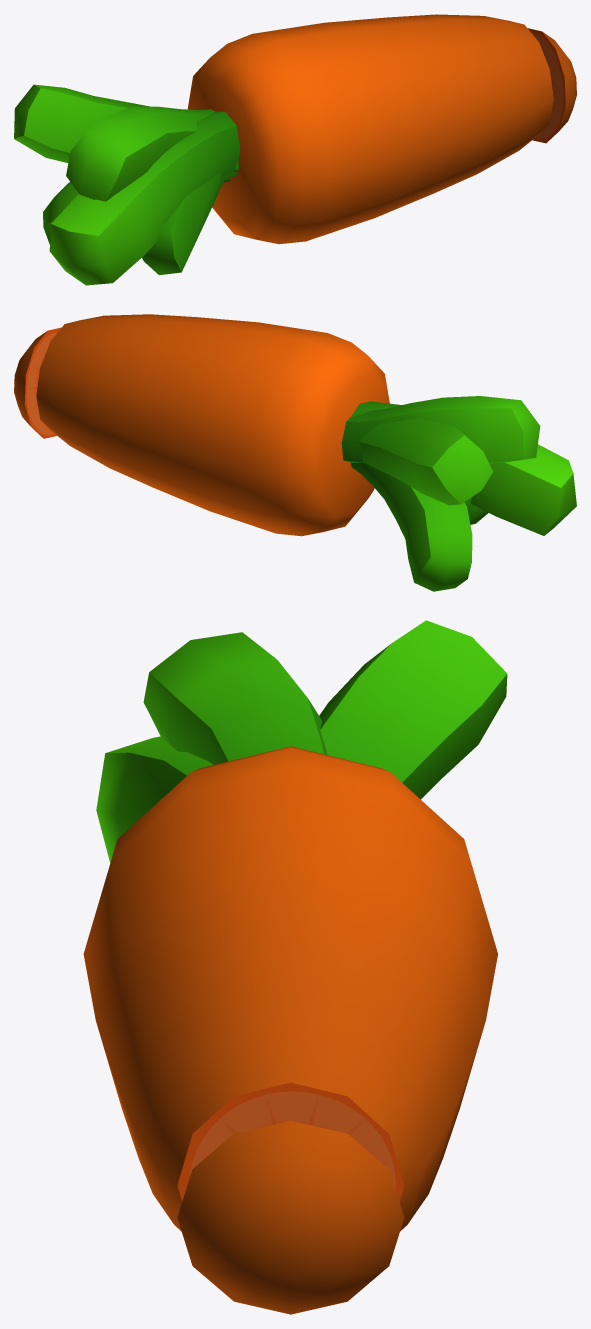
Rendered from Carrot_S1.fbx.
The picture shows the model from 3 angles, top to bottom: view 1: azimuth 30°, elevation 25°; view 2: azimuth 150°, elevation 25°; view 3: azimuth 270°, elevation 25°; orthographic projection. The views are drawn at different scales.
Parts seen in each view (by area): view 1: Carrot_S1; view 2: Carrot_S1; view 3: Carrot_S1.
Part boxes in pixels (<box>): Carrot_S1: <box>14,14,576,285</box>; Carrot_S1: <box>14,314,576,591</box>; Carrot_S1: <box>83,620,507,1314</box>.
Bounding box in the file's own units: 106 × 36.65 × 37.47.
